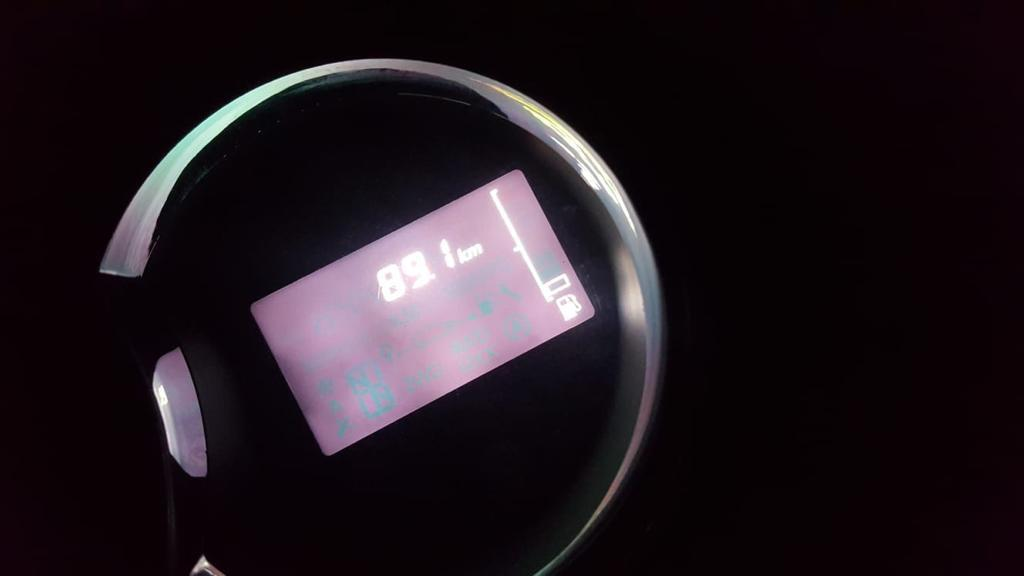,: (429, 269, 438, 284)
1: (437, 236, 455, 270)
8: (374, 263, 406, 305)
9: (400, 250, 430, 290)
X: (457, 246, 471, 265), (467, 243, 484, 257)
odometer: (245, 168, 597, 461)
